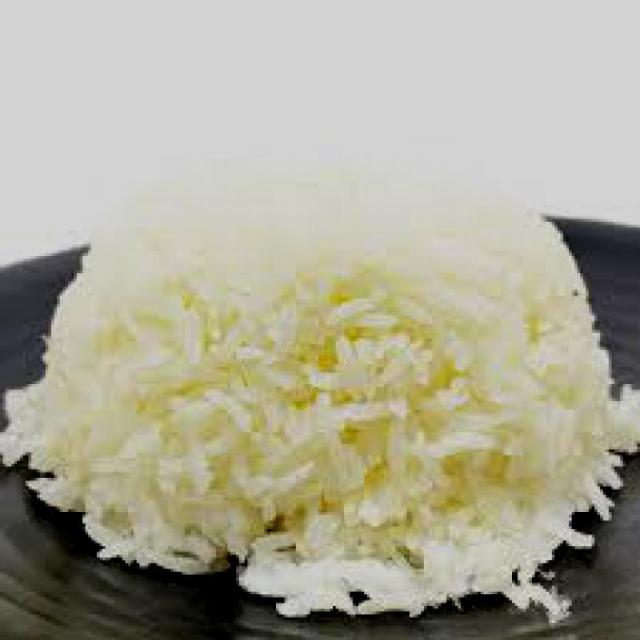rice: (3, 177, 638, 621)
